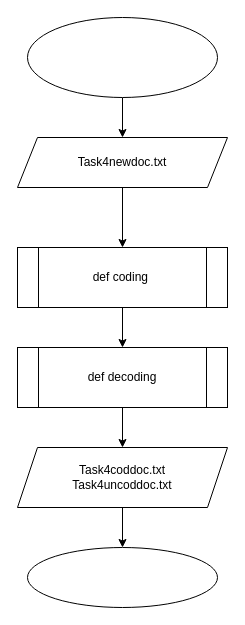
Some shapes in this 245 by 625 pixel diagram are drawn without their labels. The shapes that lost their labels are listed below. From the top down, each one's centre as x and y in pixels, then its label:
At (x=122, y=57): "Start".
At (x=122, y=577): "End".
